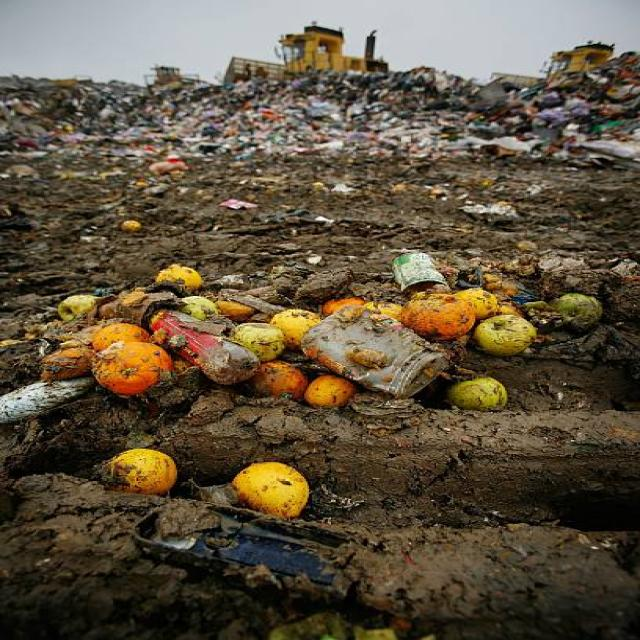trash: (4, 231, 600, 472), (63, 75, 616, 164)
